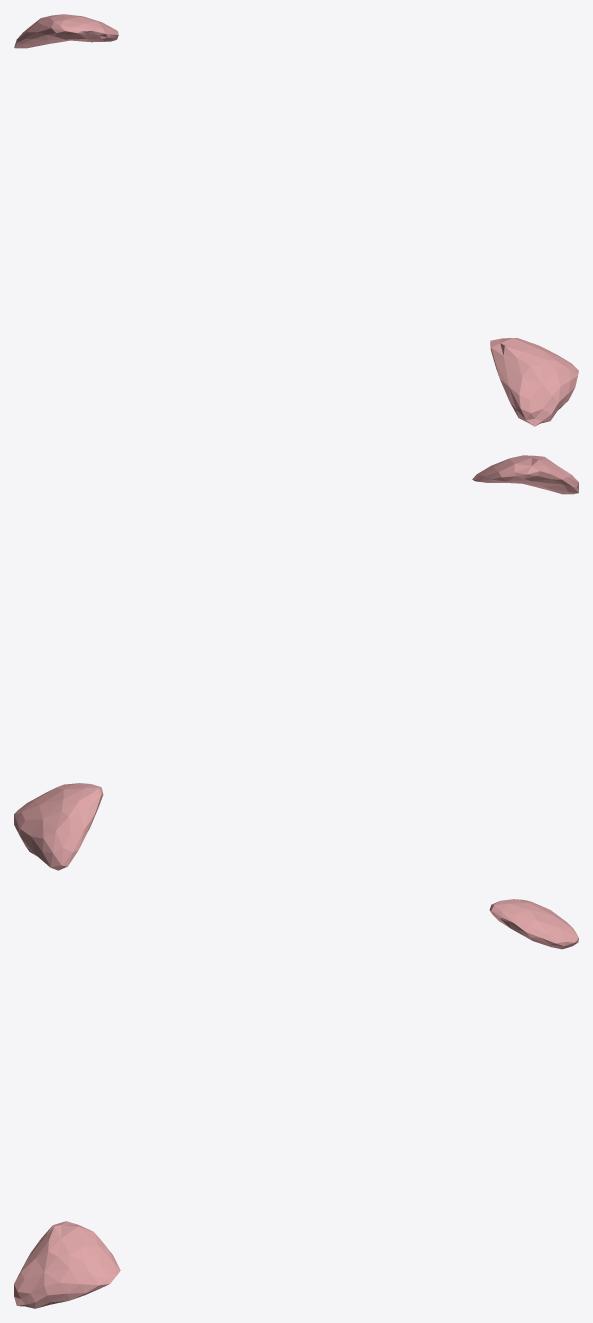
The picture shows the model from 3 angles, top to bottom: view 1: azimuth 30°, elevation 25°; view 2: azimuth 150°, elevation 25°; view 3: azimuth 330°, elevation 25°; orthographic projection.
Visible parts, largest first — view 1: 1044.obj; view 2: 1044.obj; view 3: 1044.obj.
Boxes of the visible parts, <box> form: 1044.obj: <box>14,14,578,426</box>; 1044.obj: <box>14,455,578,870</box>; 1044.obj: <box>14,899,578,1308</box>.
Size of the model in its own units: 450 by 301 by 5011.
